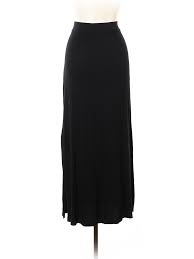S_skirt: (50, 21, 152, 230)
